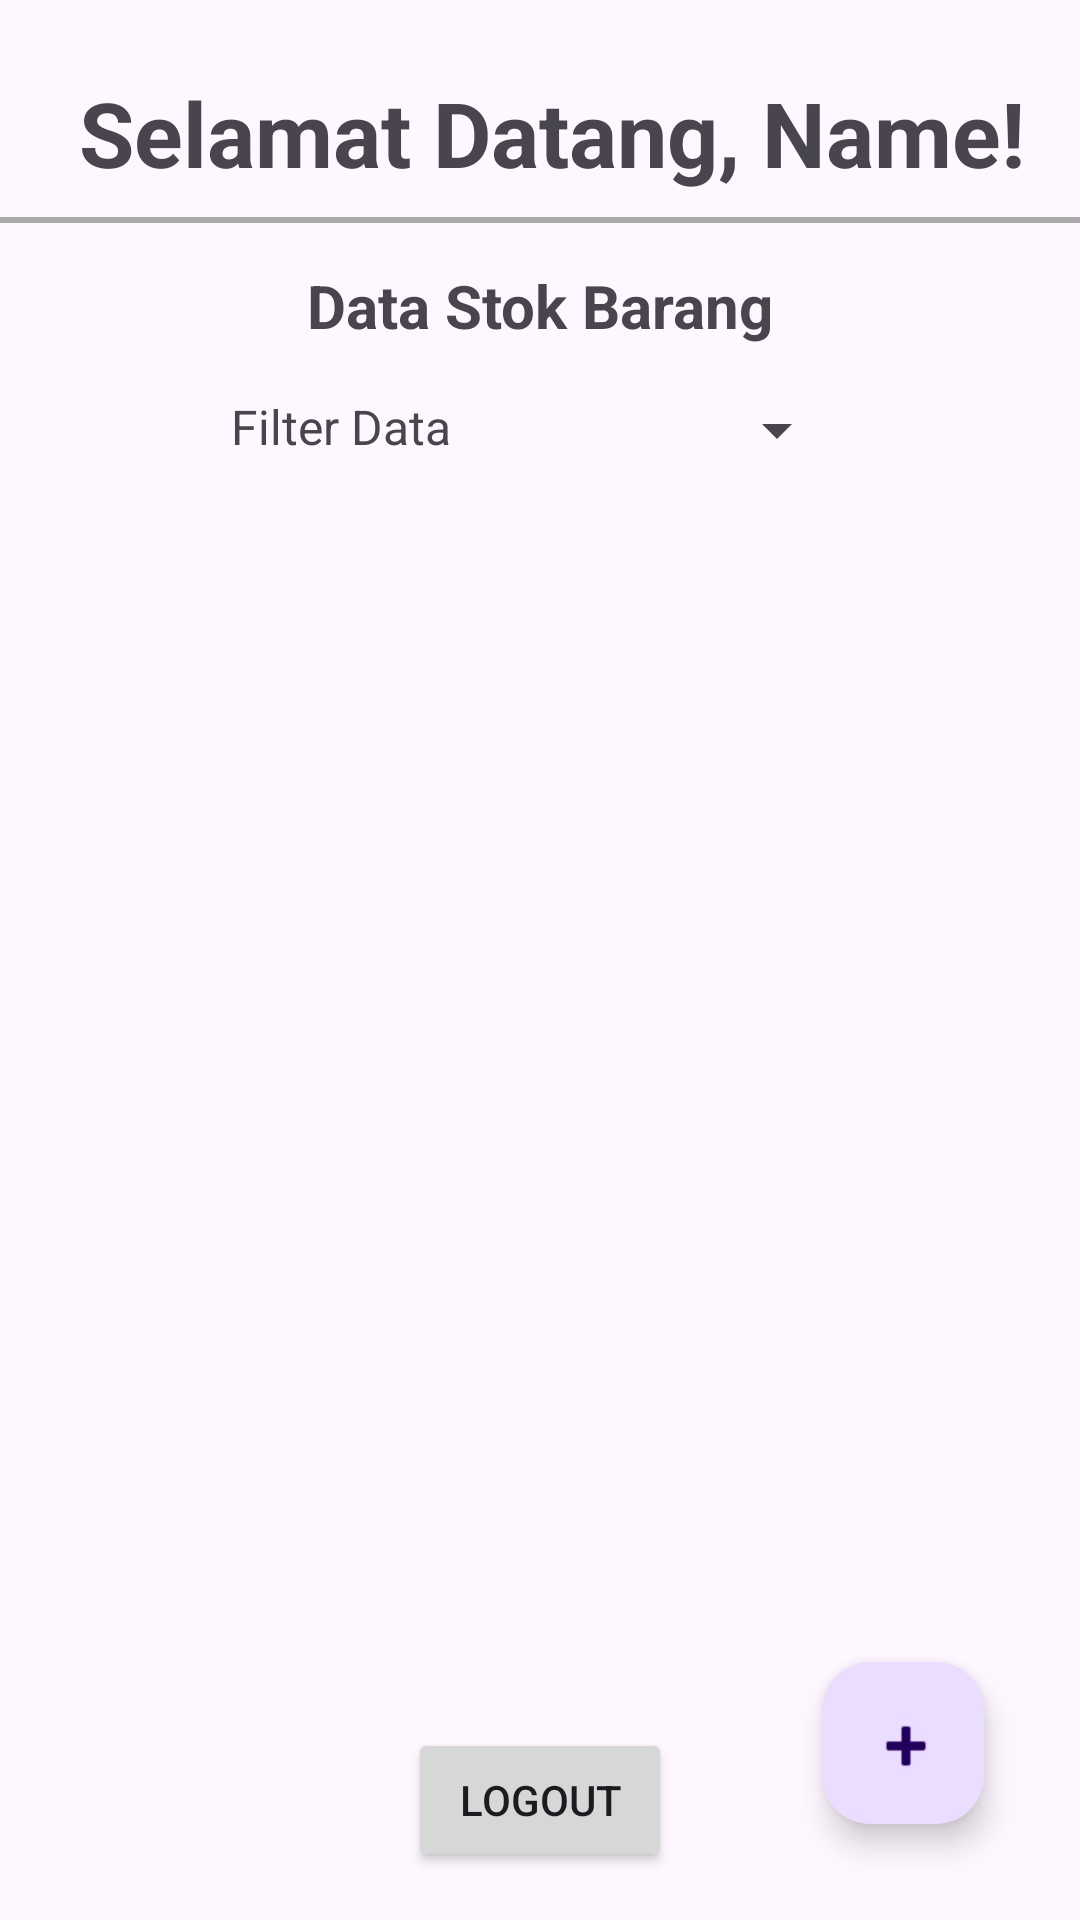

Icon click points for this 1080 x 1920 phone screenshot, format (x,y):
Tambah Stok: (903,1743)
